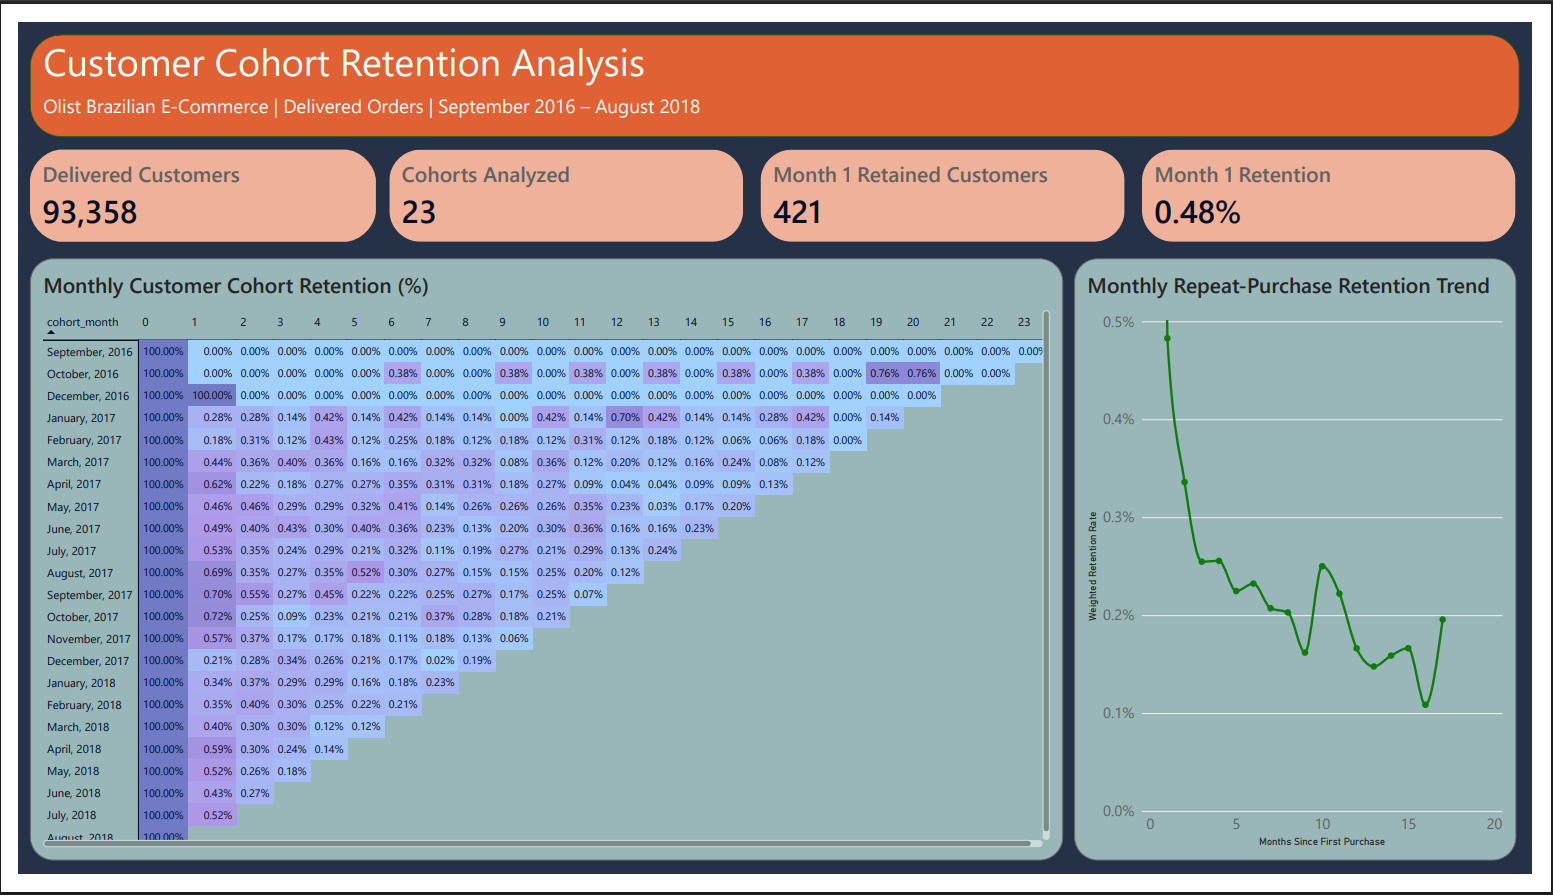

This screenshot's page, from the dashboard's own definition file:
{"tool":"powerbi","page":{"name":"Page 1","canvas":[1920,1080],"ordinal":0},"visuals":[{"type":"pivotTable","title":"Monthly Customer Cohort Retention (%)","fields":{"Columns":["ecommerce_customer_intelligence vw_cohort_retention.cohort_index"],"Rows":["ecommerce_customer_intelligence vw_cohort_retention.cohort_month"],"Values":["ecommerce_customer_intelligence vw_cohort_retention.Cohort Retention %"]},"box":[14.4,299.9,1310.4,764.1],"z":0},{"type":"cardVisual","fields":{"Data":["ecommerce_customer_intelligence vw_cohort_retention.Total Cohort Customers"]},"box":[14.4,162.3,439.5,117.1],"z":1000},{"type":"cardVisual","fields":{"Data":["ecommerce_customer_intelligence vw_cohort_retention.Cohorts Analyzed"]},"box":[470.3,162.3,449.8,117.1],"z":2000},{"type":"cardVisual","fields":{"Data":["ecommerce_customer_intelligence vw_cohort_retention.Month 1 Retained Customers"]},"box":[940.7,162.3,462.1,117.1],"z":3000},{"type":"cardVisual","fields":{"Data":["ecommerce_customer_intelligence vw_cohort_retention.Month 1 Retention"]},"box":[1425.4,162.3,474.5,117.1],"z":4000},{"type":"lineChart","title":"Monthly Repeat-Purchase Retention Trend","fields":{"Category":["ecommerce_customer_intelligence vw_cohort_retention.cohort_index"],"Y":["ecommerce_customer_intelligence vw_cohort_retention.Weighted Retention Trend"]},"box":[1339.2,299.9,560.7,764.1],"z":5000},{"type":"shape","box":[14.4,16.4,1889.6,129.4],"z":6000},{"type":"textbox","box":[31.4,16.8,835.6,73.3],"z":7000},{"type":"textbox","box":[31.4,90.1,881.7,60.7],"z":8000}]}

Visuals, with their boxes in screenshot pixels (x1, y1, x2, y2), scaled from the page's 1920x1080 canvas onto the 1553x895 screenshot:
"Monthly Customer Cohort Retention (%)" pivotTable: [12, 249, 1072, 882]
cardVisual - ecommerce_customer_intelligence vw_cohort_retention.Total Cohort Customers: [12, 134, 367, 232]
cardVisual - ecommerce_customer_intelligence vw_cohort_retention.Cohorts Analyzed: [380, 134, 744, 232]
cardVisual - ecommerce_customer_intelligence vw_cohort_retention.Month 1 Retained Customers: [761, 134, 1135, 232]
cardVisual - ecommerce_customer_intelligence vw_cohort_retention.Month 1 Retention: [1153, 134, 1537, 232]
"Monthly Repeat-Purchase Retention Trend" lineChart: [1083, 249, 1537, 882]
shape: [12, 14, 1540, 121]
textbox: [25, 14, 701, 75]
textbox: [25, 75, 739, 125]
